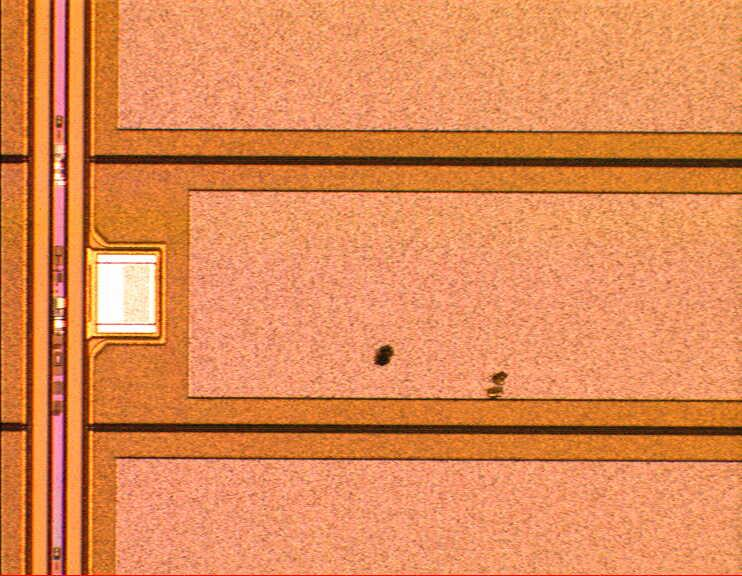PIQ PARTICLE: (366, 332, 527, 411)
